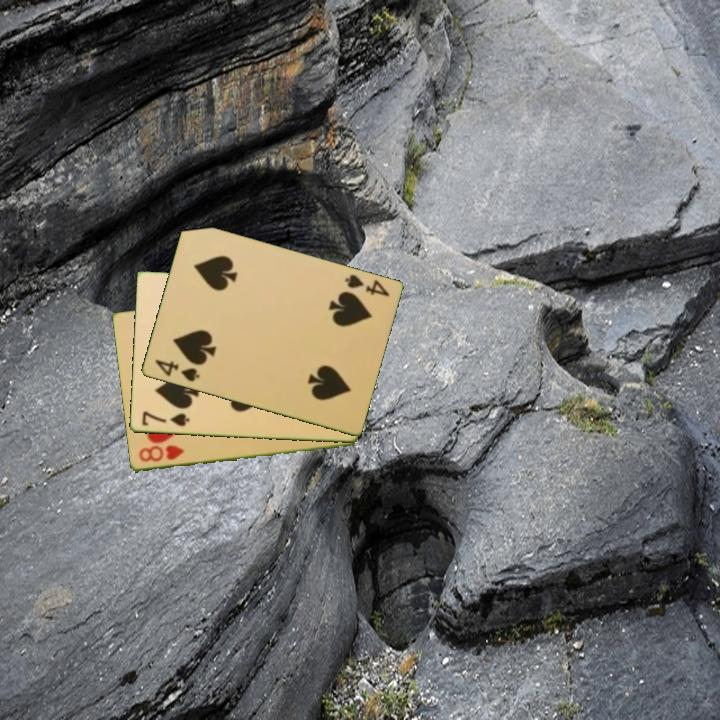4s: (151, 356, 202, 385), (341, 271, 392, 300)
7s: (138, 408, 192, 429)
8h: (135, 442, 186, 465)
